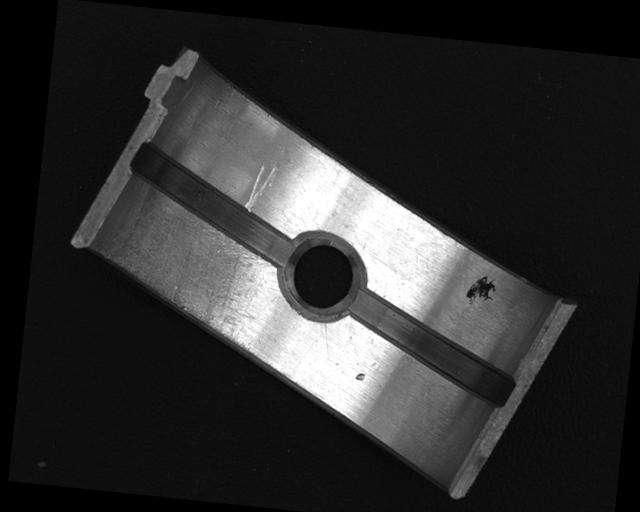blot: (463, 271, 498, 307)
bruise: (355, 371, 366, 381)
gap: (117, 137, 304, 268), (341, 288, 527, 409)
hole: (279, 236, 361, 320)
nick: (243, 159, 279, 214)
scratch: (91, 180, 280, 347)
